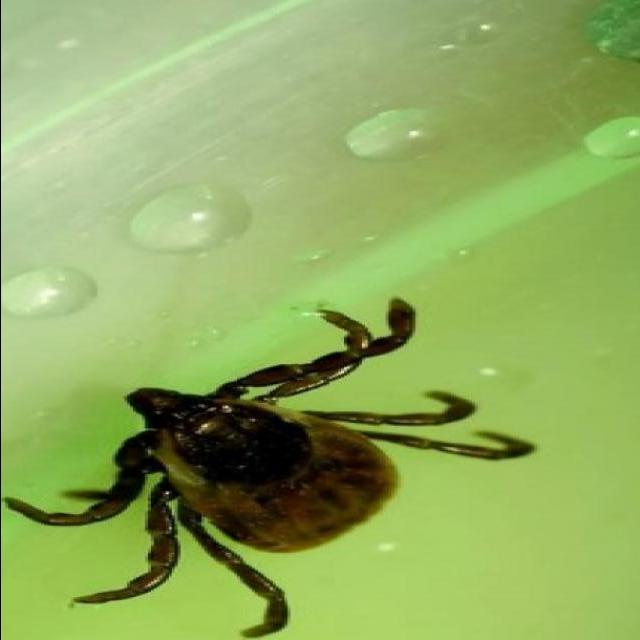Rhipicephalus Sanguineus-F: (0, 297, 536, 640)
